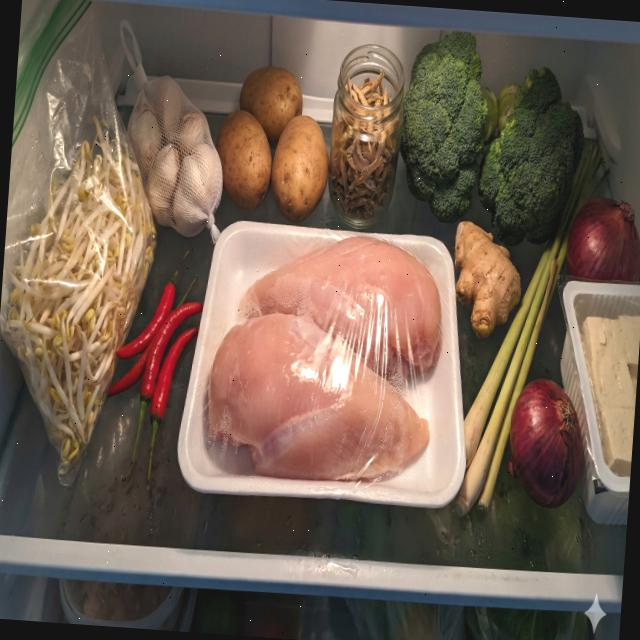anchovies: (327, 64, 402, 220)
bean_sprouts: (0, 109, 165, 482)
brocolli: (392, 26, 591, 248)
chicken: (202, 224, 448, 488)
chili: (100, 240, 206, 494)
garlic: (119, 71, 230, 241)
ginger: (447, 218, 526, 344)
lemongrass: (452, 137, 612, 527)
onion: (506, 378, 591, 512), (565, 196, 640, 287)
potato: (210, 62, 336, 225)
tofu: (570, 311, 640, 477)
